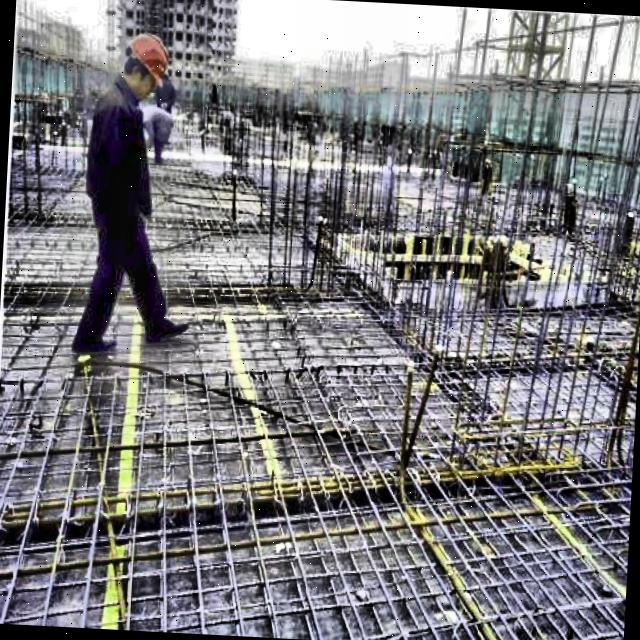helmet: (118, 27, 174, 103)
